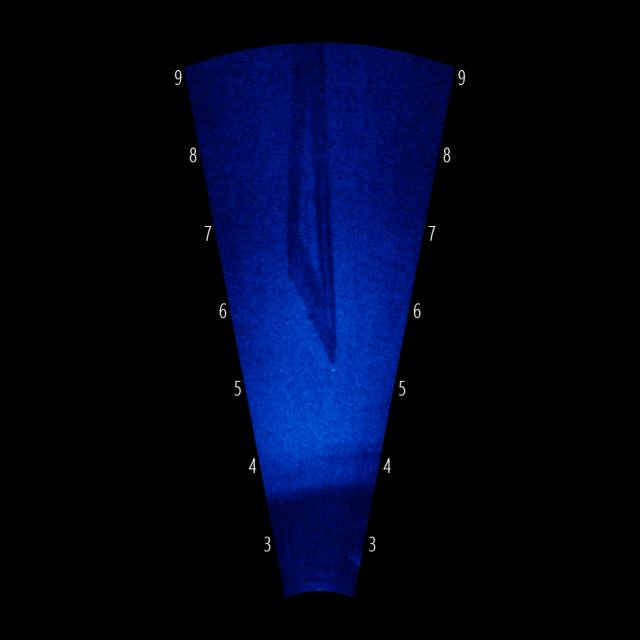triangle: (275, 39, 343, 377)
